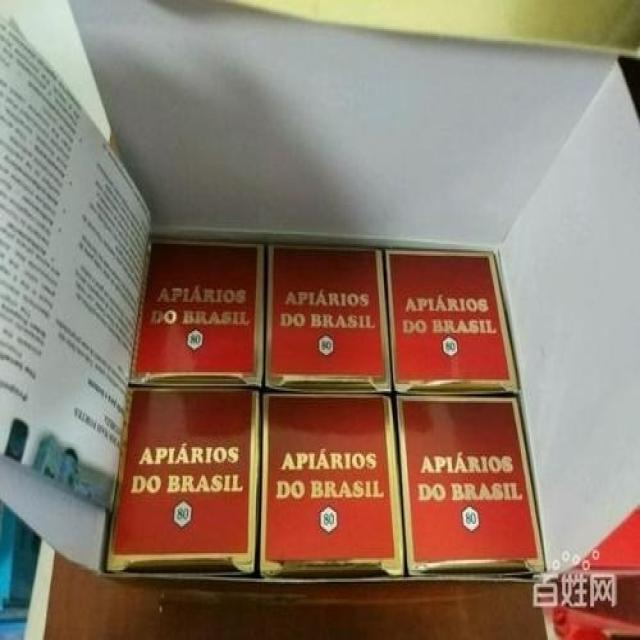box: (108, 388, 262, 577), (393, 394, 545, 576), (259, 391, 403, 577), (128, 237, 265, 391), (384, 249, 519, 394), (264, 246, 393, 397)
